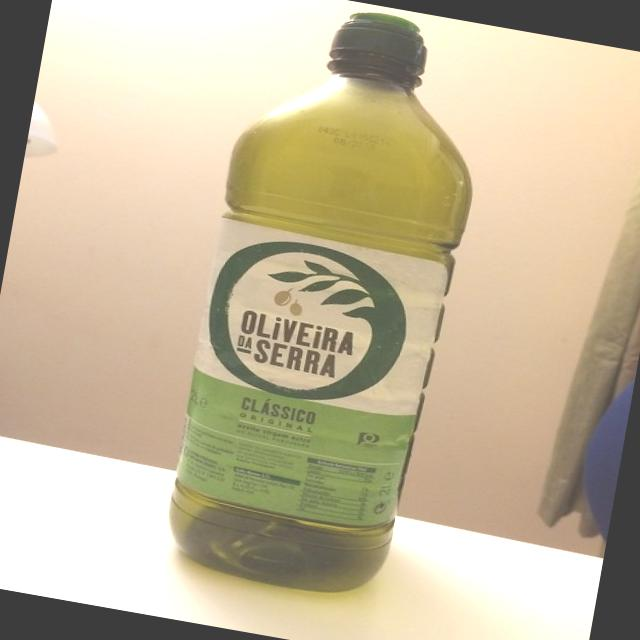Recycle: (138, 0, 509, 630)
